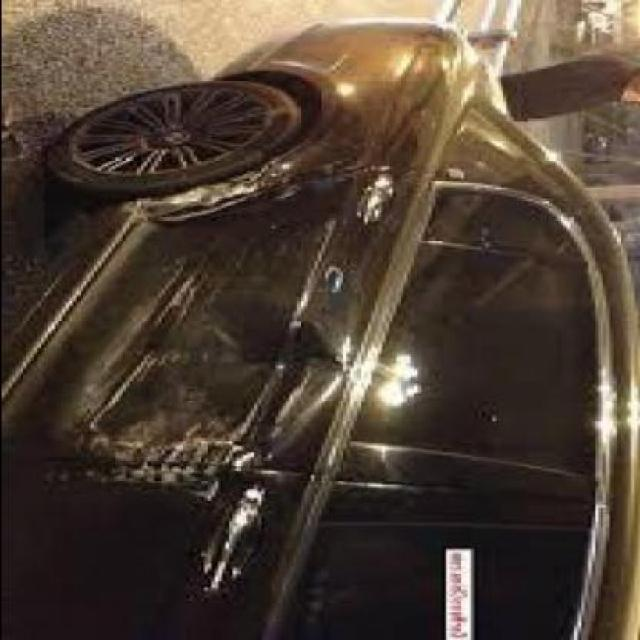damage: (13, 144, 387, 489)
